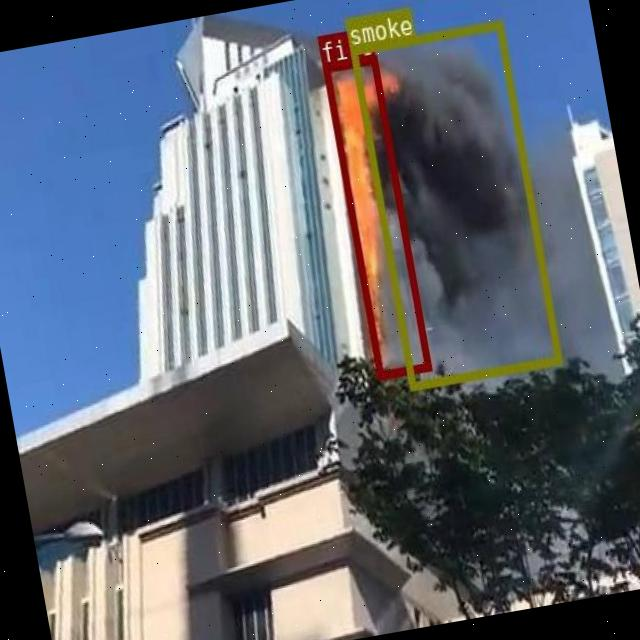fire: (322, 54, 431, 378)
smoke: (348, 19, 560, 390)
